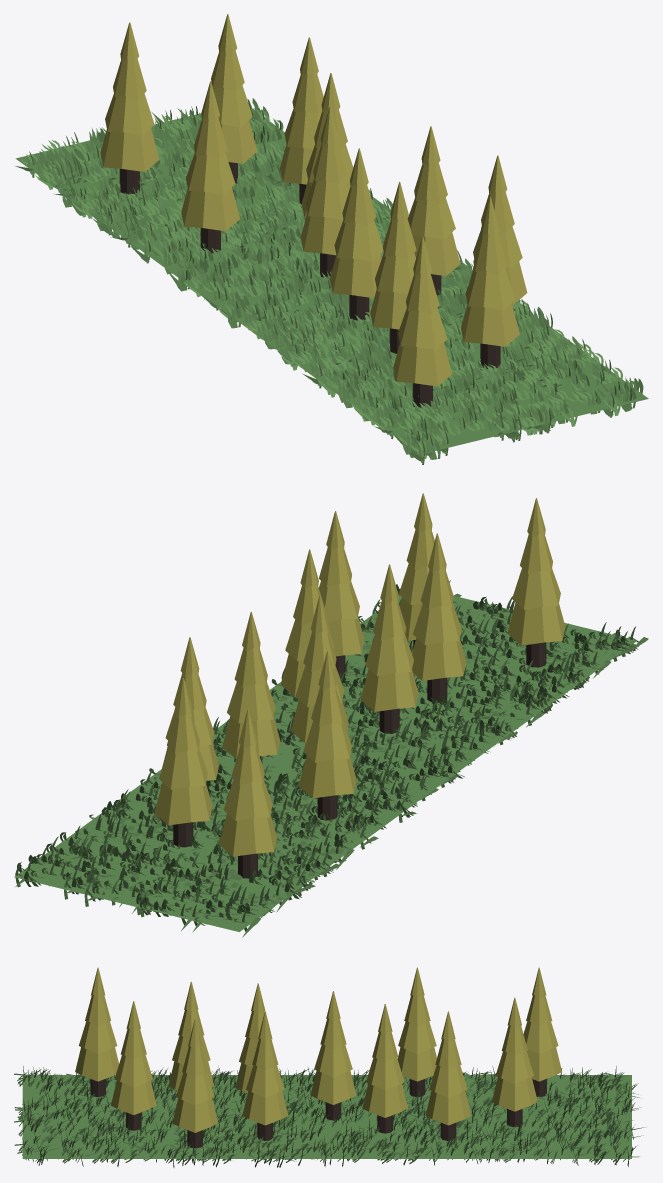
Rendered from planobuenoarboleda.glb.
The picture shows the model from 3 angles, top to bottom: view 1: azimuth 30°, elevation 25°; view 2: azimuth 150°, elevation 25°; view 3: azimuth 270°, elevation 25°; orthographic projection. The views are drawn at different scales.
Visible parts, largest first — view 1: aaa, copa.011, copa, copa.009, copa.001, copa.005, copa.007, copa.004, copa.003, copa.010, copa.008, copa.002 (+1 smaller); view 2: aaa, copa.001, copa.005, copa.010, copa.009, copa.011, copa.003, copa.006, copa.002, copa.007, copa, copa.004 (+1 smaller); view 3: aaa, copa.004, copa.008, copa.007, copa.006, copa.010, copa, copa.002, copa.001, copa.009, copa.011, copa.003 (+1 smaller).
Boxes of the visible parts, x1,y1,x2,y2 form: aaa: (15,109,648,454); copa.011: (100,22,159,194); copa: (461,197,519,368); copa.009: (181,81,239,253); copa.001: (393,236,451,408); copa.005: (330,148,383,320); copa.007: (300,106,348,277); copa.004: (407,126,460,295); copa.003: (370,182,416,353); copa.010: (211,14,257,183); copa.008: (280,37,323,207); copa.002: (469,155,527,305); aaa: (14,595,636,931); copa.001: (507,498,565,667); copa.005: (360,564,418,733); copa.010: (154,678,212,847); copa.009: (298,651,356,820); copa.011: (219,709,276,878); copa.003: (412,533,466,702); copa.006: (222,611,280,760); copa.002: (319,511,364,678); copa.007: (291,595,348,742); copa: (399,493,434,648); copa.004: (280,549,333,696); aaa: (22,1075,631,1158); copa.004: (242,1011,288,1140); copa.008: (425,1011,471,1140); copa.007: (310,991,356,1120); copa.006: (362,1004,407,1133); copa.010: (492,997,537,1127); copa: (111,1001,156,1130); copa.002: (172,1018,217,1148); copa.001: (75,967,118,1097); copa.009: (397,967,436,1096); copa.011: (523,967,561,1096); copa.003: (168,981,213,1090).
Size of the model in its own units: 5.52 by 5.11 by 16.52.
